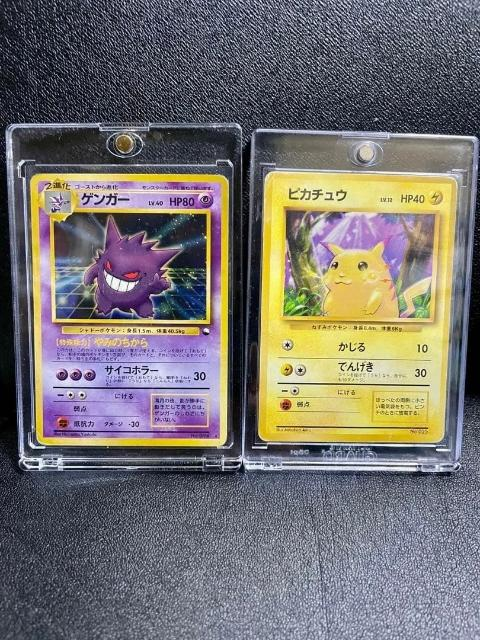Card: (256, 169, 464, 446), (27, 170, 231, 447)
Name: (284, 182, 353, 205)
